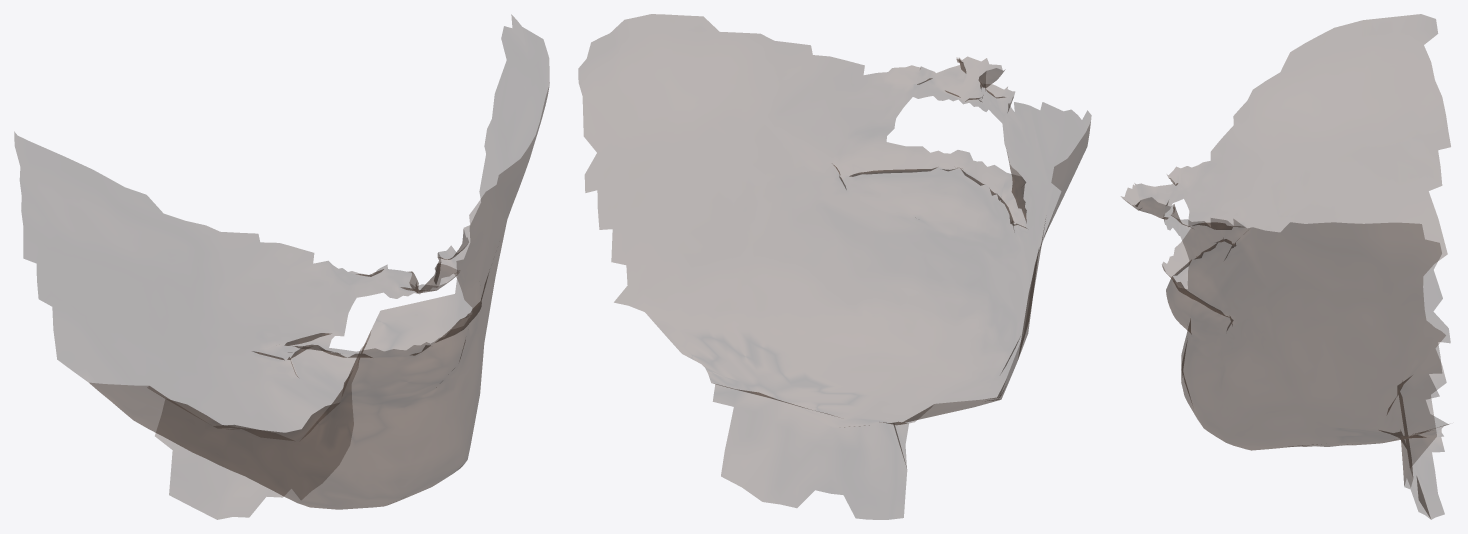
The model's file is kopf.bart.stoppeln.glb.
The picture shows the model from 3 angles, left to right: view 1: azimuth 30°, elevation 25°; view 2: azimuth 150°, elevation 25°; view 3: azimuth 270°, elevation 25°; orthographic projection. The views are drawn at different scales.
Parts seen in each view (by area): view 1: bart; view 2: bart; view 3: bart.
Boxes of the visible parts, x1,y1,x2,y2 form: bart: (14, 15, 549, 519); bart: (578, 14, 1091, 519); bart: (1121, 14, 1450, 519).
Bounding box in the file's own units: 0.147 × 0.122 × 0.0975.
